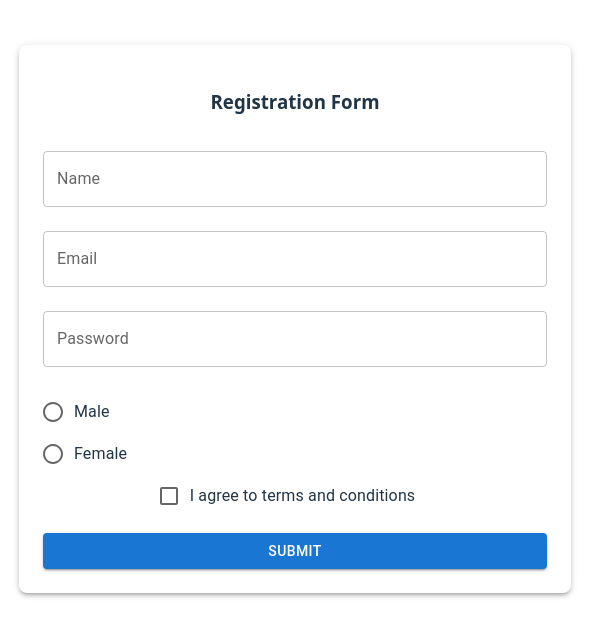
Test: Registration Form Component › SHOWS ERROR for short password
The width and height of the screenshot is (591, 643).
Type "Prince" into the field labelled "Name" at (295, 178), box [43,150,547,206]
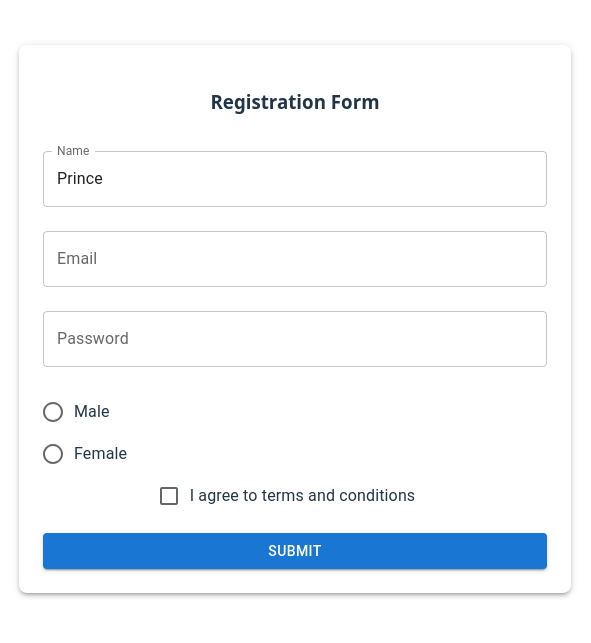
Type "test@test.com" into the field labelled "Email" at (295, 258), box [43,230,547,286]
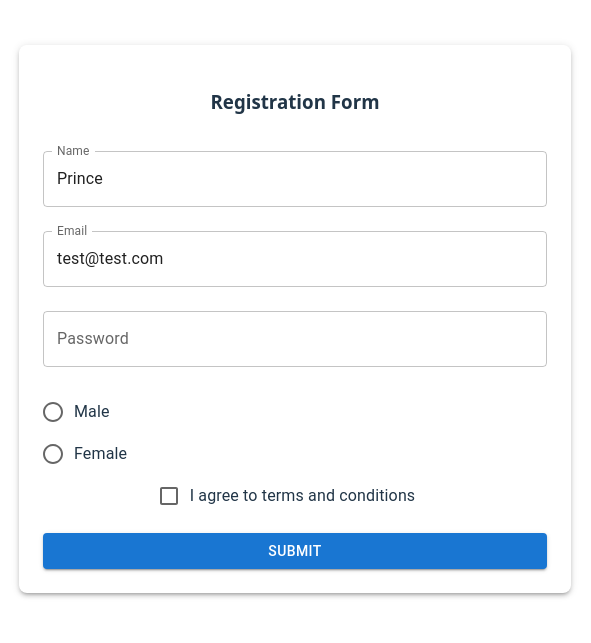
Type "123" into the password field labelled "Password" at (295, 338), box [43,310,547,366]
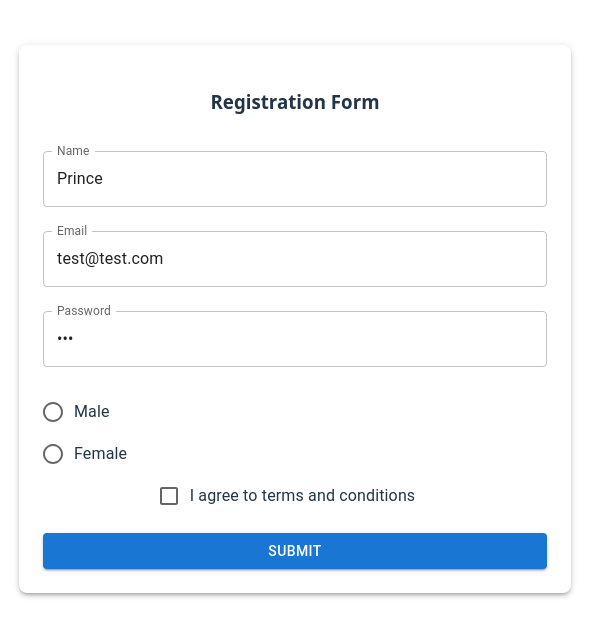
Click the button "Submit" at (295, 551), box [43,532,547,569]
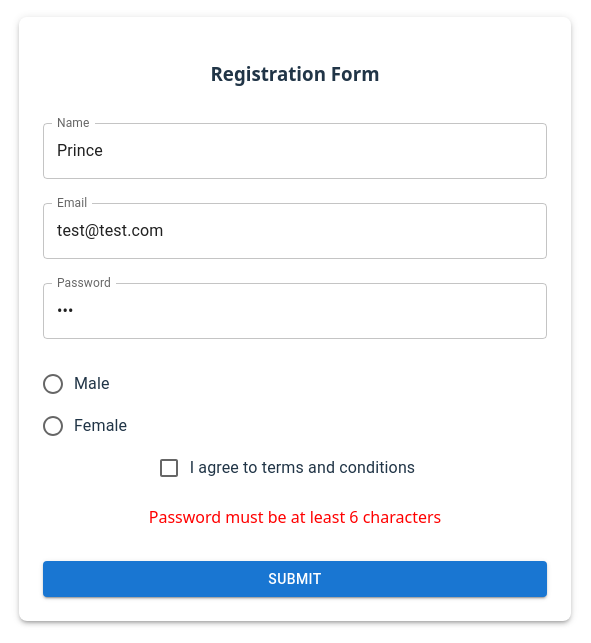
Now the text "Password must be at least 6 characters" is shown, box [149,506,441,528]
